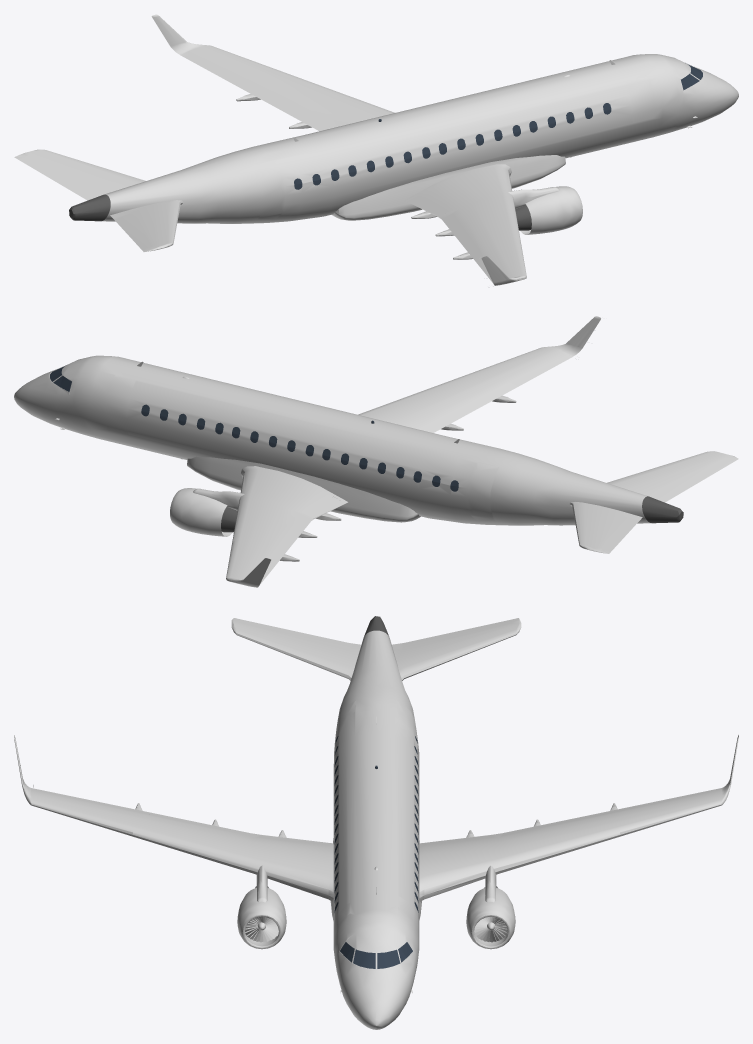
3 views of the same model, one above another, from view 1: azimuth 30°, elevation 25°; view 2: azimuth 150°, elevation 25°; view 3: azimuth 270°, elevation 25° (orthographic). The views are drawn at different scales.
Visible parts, largest first — view 1: body, glass, trim; view 2: body, glass, trim; view 3: body, glass.
Part boxes in pixels (bbox=[...]): body: bbox=[14, 14, 738, 286]; glass: bbox=[294, 64, 702, 189]; trim: bbox=[69, 194, 531, 230]; body: bbox=[14, 316, 738, 587]; glass: bbox=[50, 365, 458, 491]; trim: bbox=[221, 496, 683, 532]; body: bbox=[14, 618, 738, 1029]; glass: bbox=[334, 736, 418, 968].
Bounding box in the file's own units: 2.2 × 0.329 × 1.89.
